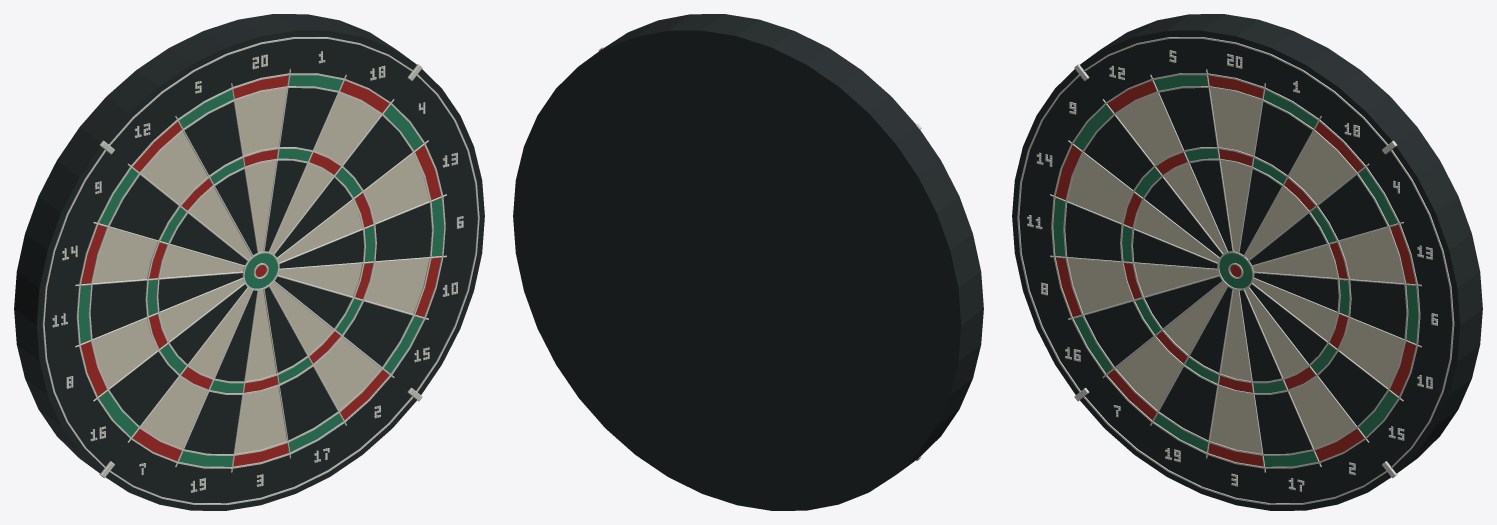
File: full.glb
The picture shows the model from 3 angles, left to right: view 1: azimuth 30°, elevation 25°; view 2: azimuth 150°, elevation 25°; view 3: azimuth 330°, elevation 25°; orthographic projection.
Parts seen in each view (by area): view 1: Continuous scoring face and solid backing, Concentric wire 0.199, Concentric wire 0.168, Concentric wire 0.157, Concentric wire 0.105, Concentric wire 0.095; view 2: Continuous scoring face and solid backing; view 3: Continuous scoring face and solid backing, Concentric wire 0.199, Concentric wire 0.168, Concentric wire 0.157, Concentric wire 0.105, Concentric wire 0.095.
Part boxes in pixels (bbox=[...]): Continuous scoring face and solid backing: bbox=[14, 14, 484, 510]; Concentric wire 0.199: bbox=[42, 37, 479, 504]; Concentric wire 0.168: bbox=[76, 73, 445, 468]; Concentric wire 0.157: bbox=[88, 86, 433, 455]; Concentric wire 0.105: bbox=[145, 147, 376, 394]; Concentric wire 0.095: bbox=[156, 158, 365, 383]; Continuous scoring face and solid backing: bbox=[513, 14, 983, 510]; Continuous scoring face and solid backing: bbox=[1012, 14, 1482, 510]; Concentric wire 0.199: bbox=[1017, 37, 1454, 504]; Concentric wire 0.168: bbox=[1051, 73, 1420, 468]; Concentric wire 0.157: bbox=[1063, 86, 1408, 455]; Concentric wire 0.105: bbox=[1120, 147, 1351, 394]; Concentric wire 0.095: bbox=[1131, 158, 1340, 383].
Bounding box in the file's own units: 0.41 × 0.41 × 0.038.
